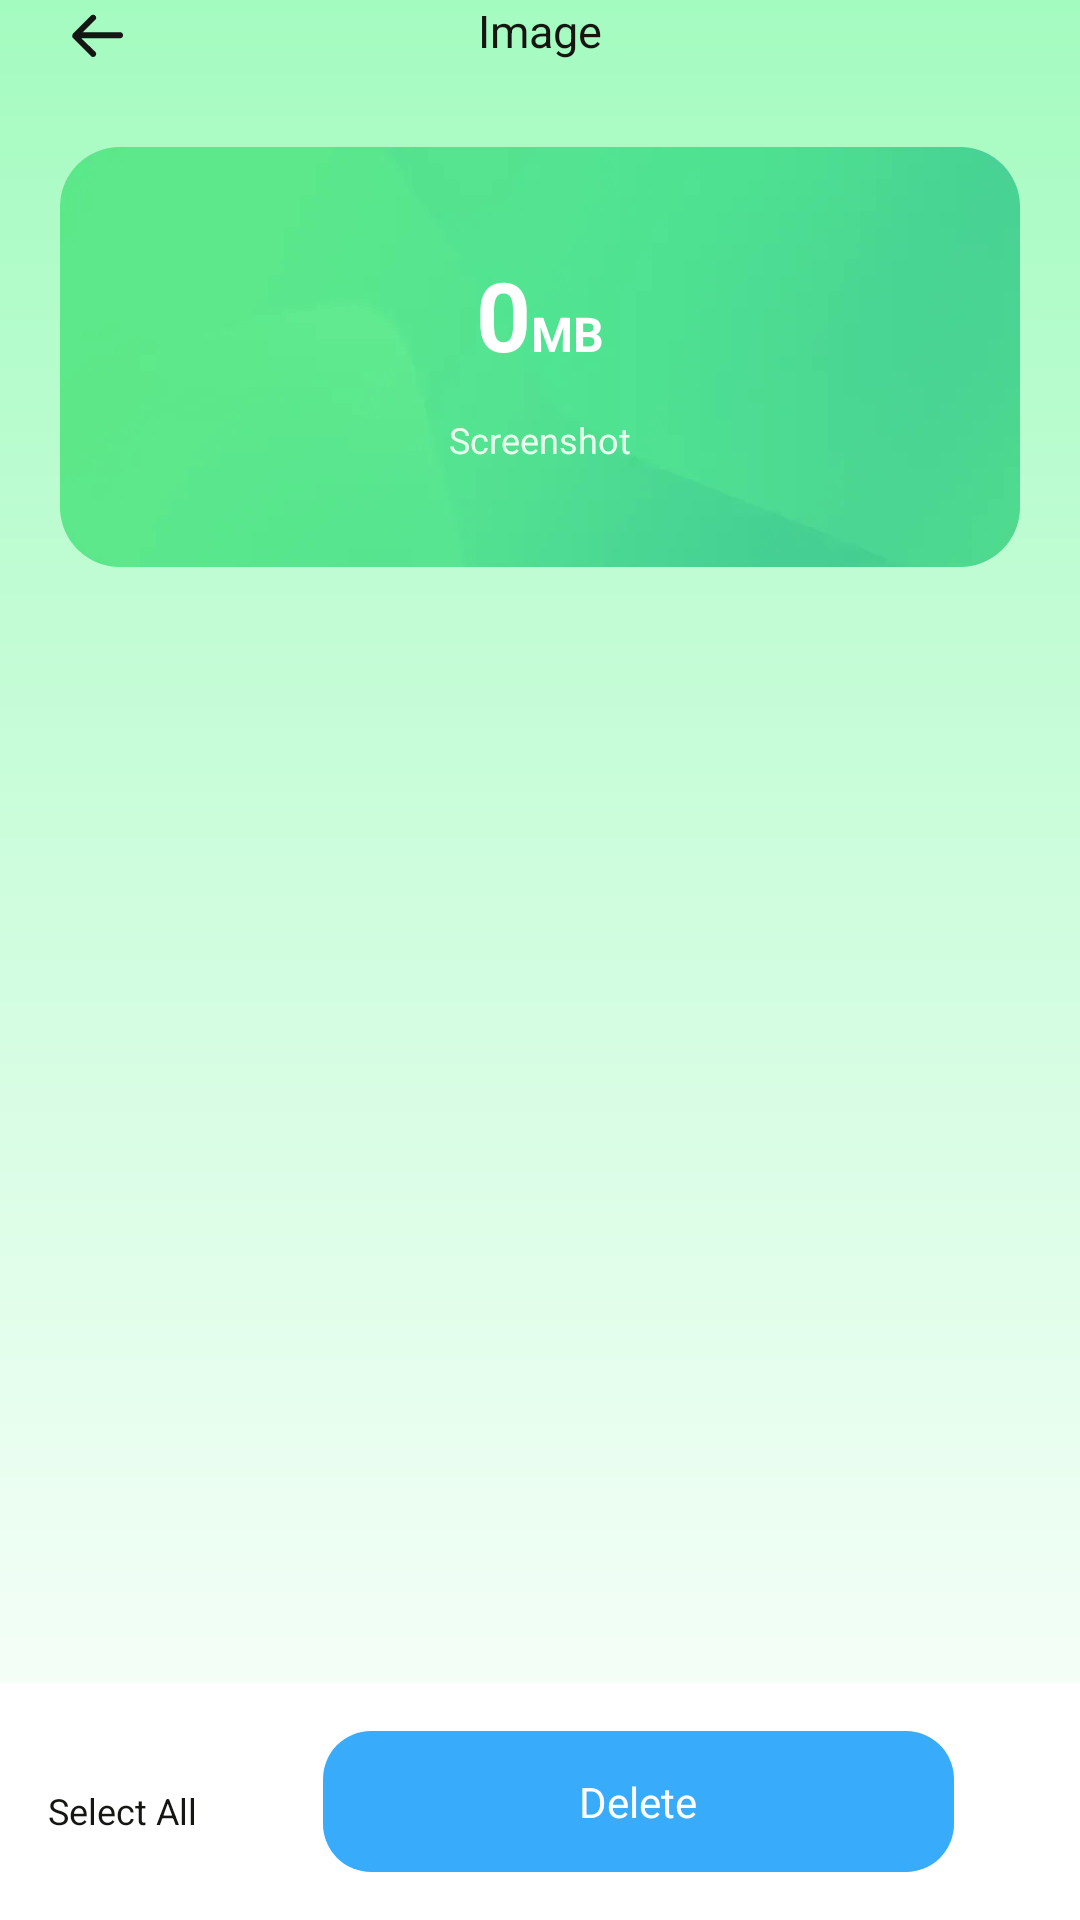

Named icons in this screenshot (1080×1920) and their centers, (x,y):
tui hei: (97,35)
